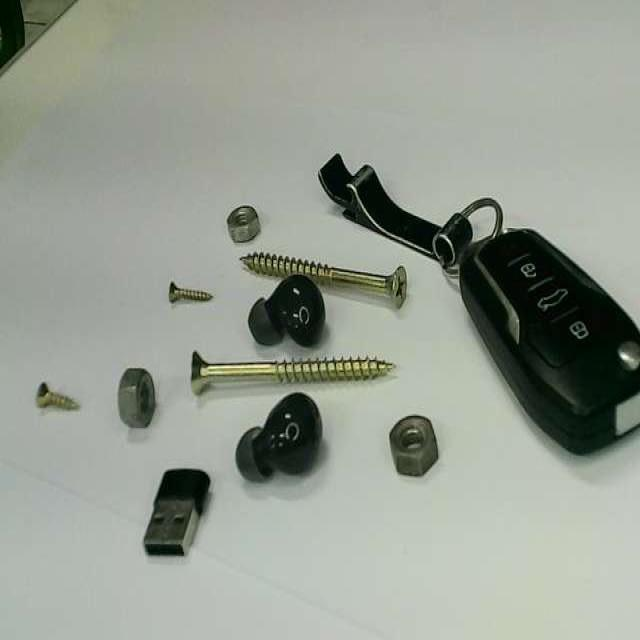Parafuso: (240, 252, 406, 307), (191, 351, 394, 394), (36, 382, 79, 410), (169, 282, 212, 302)
Porca: (389, 415, 437, 475), (117, 368, 155, 427), (227, 206, 259, 242)
